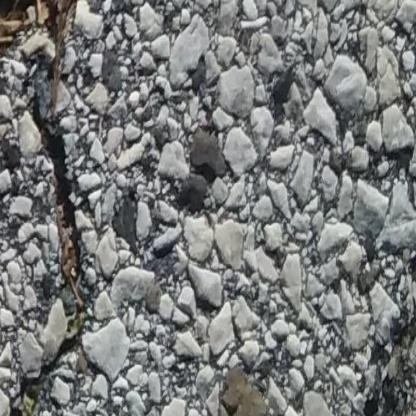Cracks: (0, 0, 102, 416)
